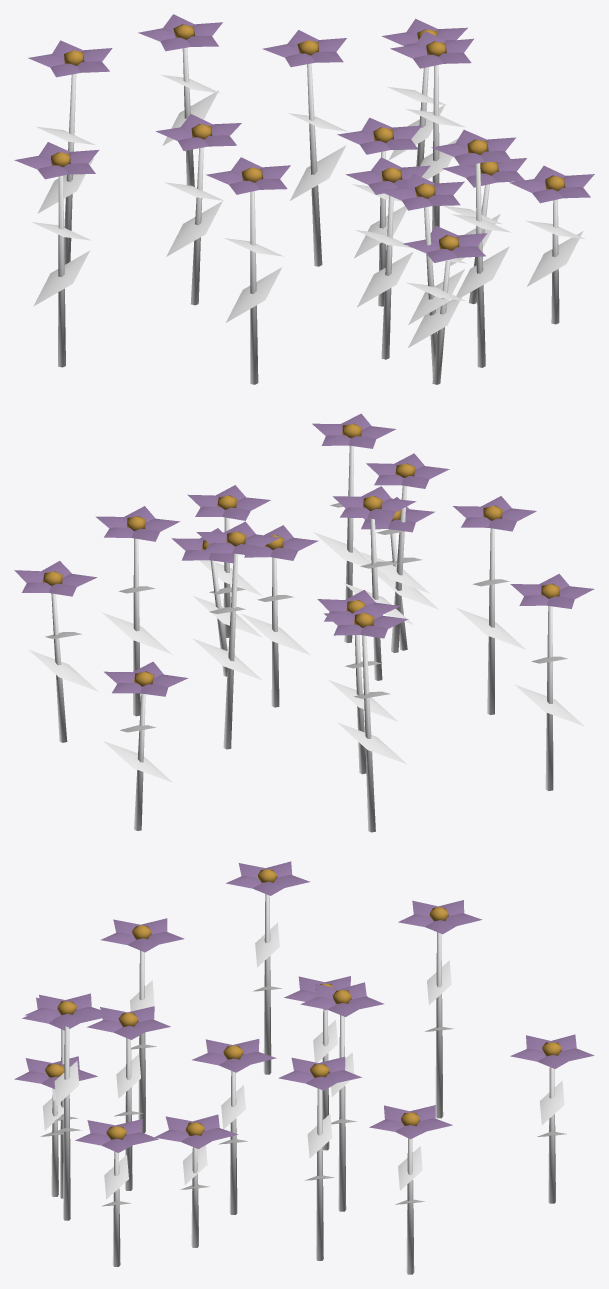
File: SM_DF_Flowers_2.fbx
The picture shows the model from 3 angles, top to bottom: view 1: azimuth 30°, elevation 25°; view 2: azimuth 150°, elevation 25°; view 3: azimuth 270°, elevation 25°; orthographic projection. The views are drawn at different scales.
Visible parts, largest first — view 1: SM_DF_Flowers_2; view 2: SM_DF_Flowers_2; view 3: SM_DF_Flowers_2.
Boxes of the visible parts, x1,y1,x2,y2 form: SM_DF_Flowers_2: (14,14,594,384); SM_DF_Flowers_2: (14,413,594,832); SM_DF_Flowers_2: (14,861,594,1274).
Size of the model in its own units: 125 by 127 by 52.34.
